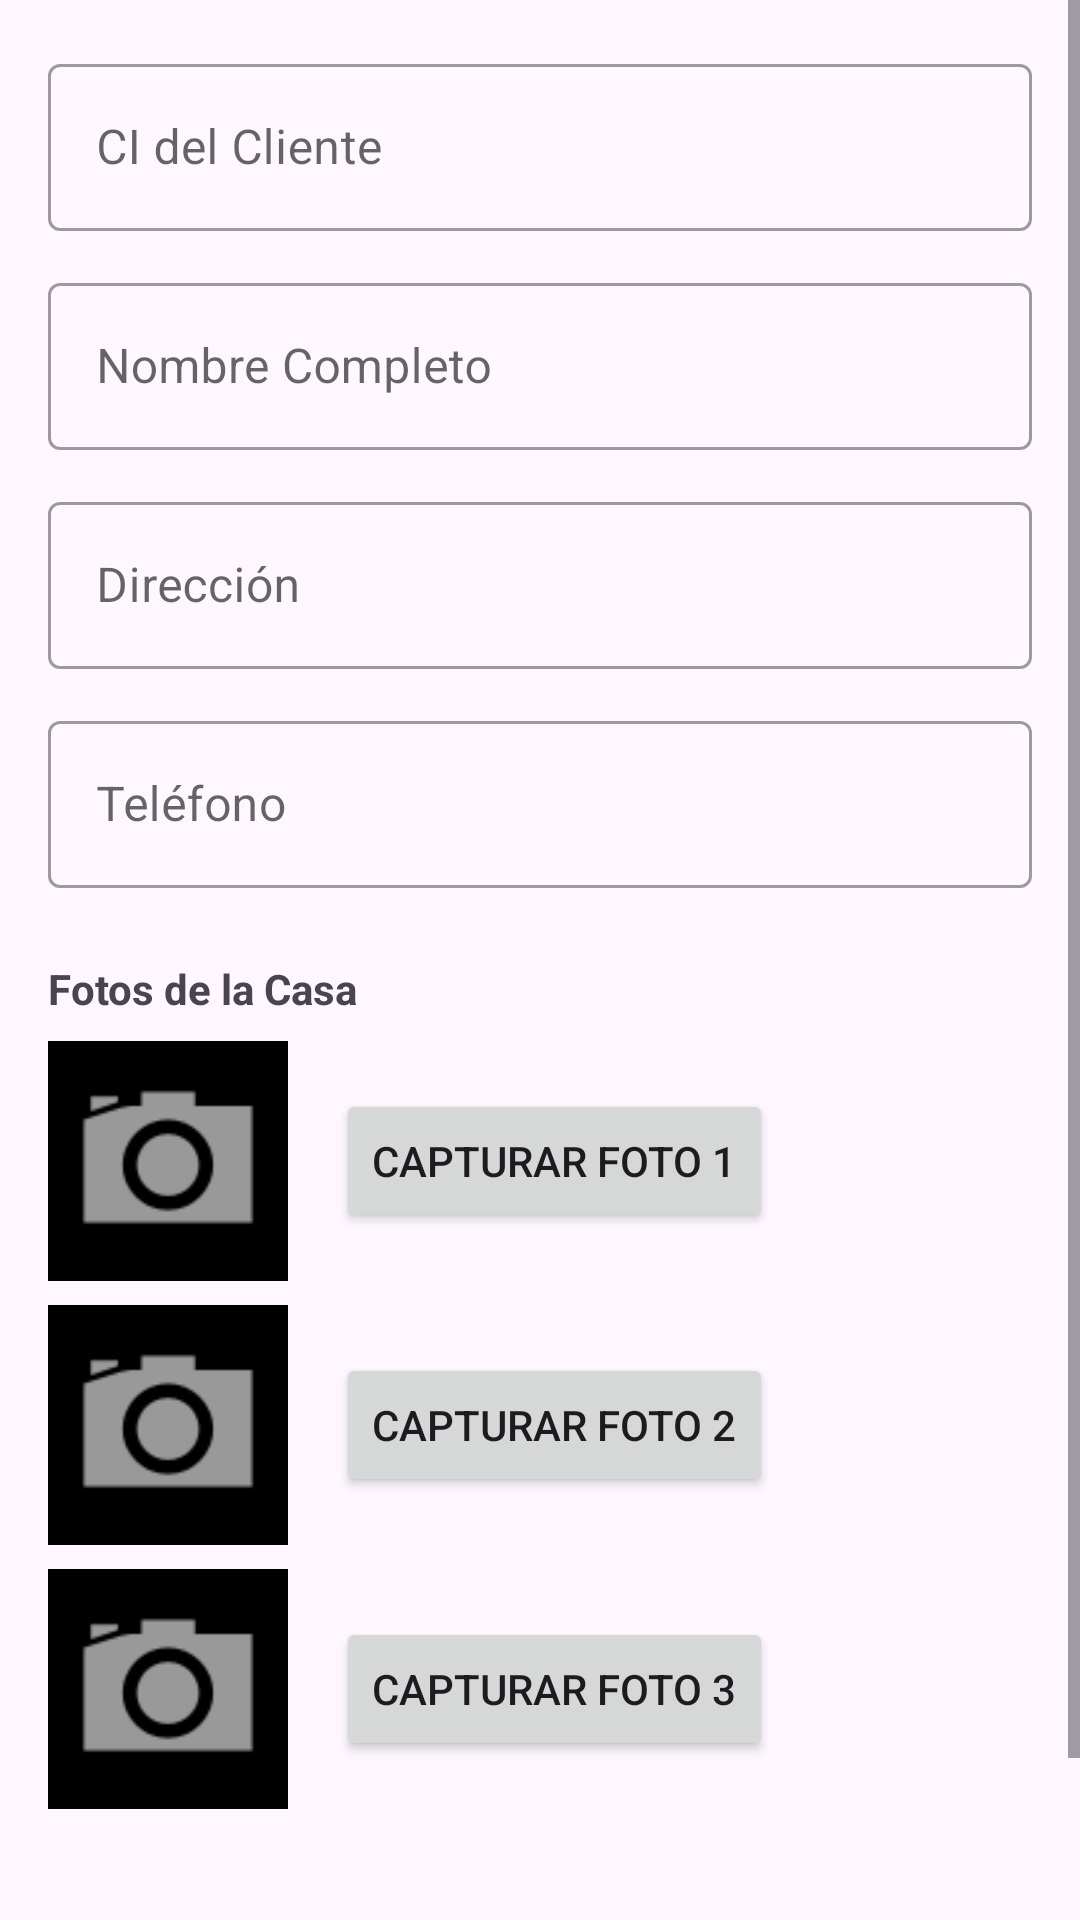

Named icons in this screenshot (1080x1920) and their centers, (x,y):
Foto de la casa 2: (168,1425)
Foto de la casa 3: (168,1689)
